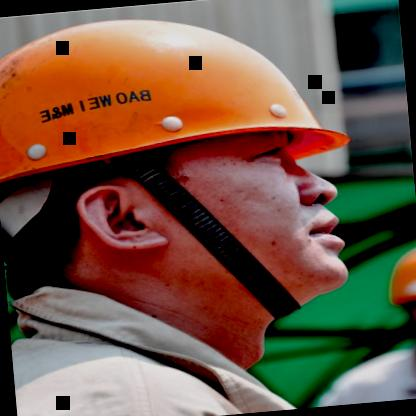helmet: (0, 0, 371, 359)
